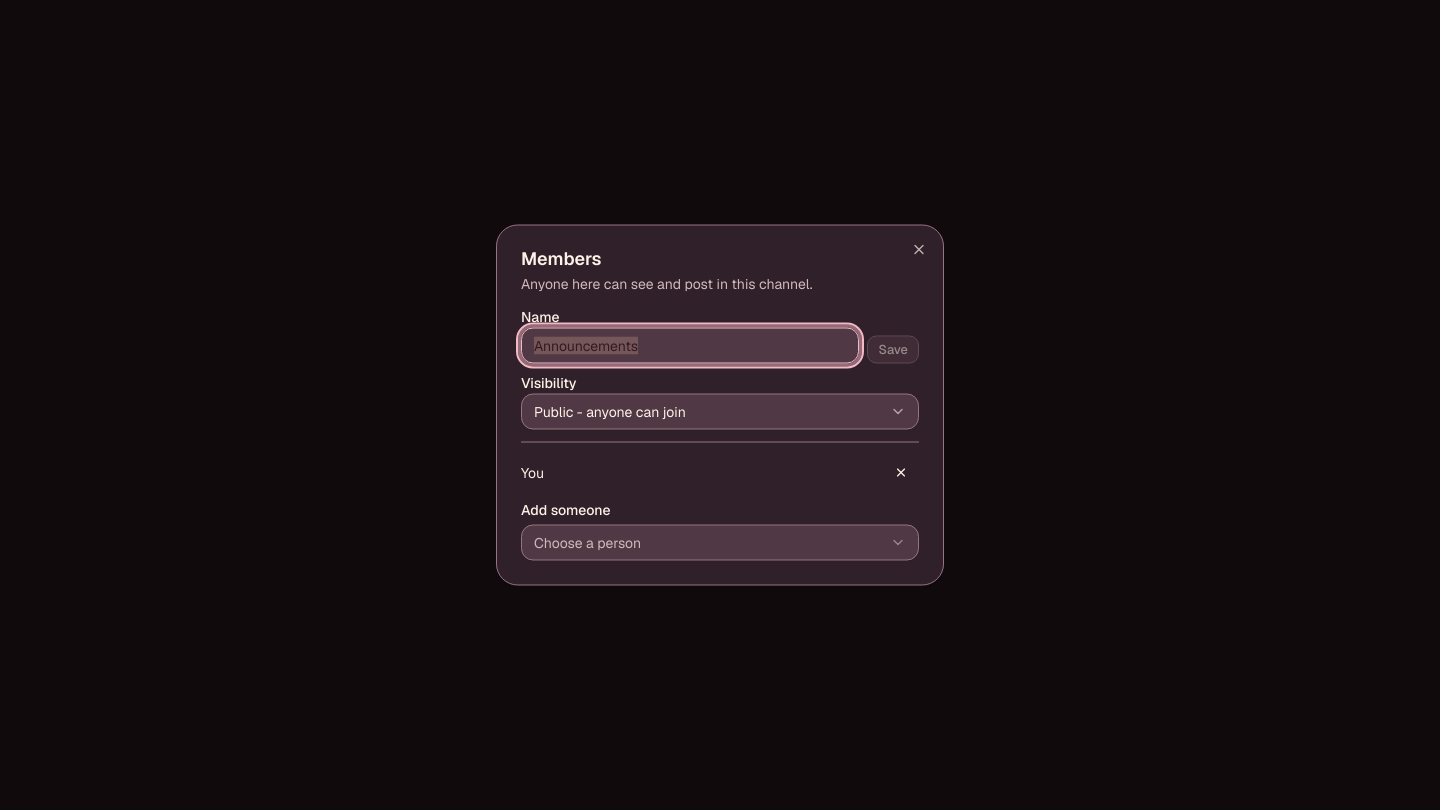
Test: ConversationMembersDialog › lists current members and offers only non-members to add
Expected: the text "You" is shown, [521,462,544,482]
Click the dropdown named "Add someone".
click(588, 542)  # box [521,524,919,560]
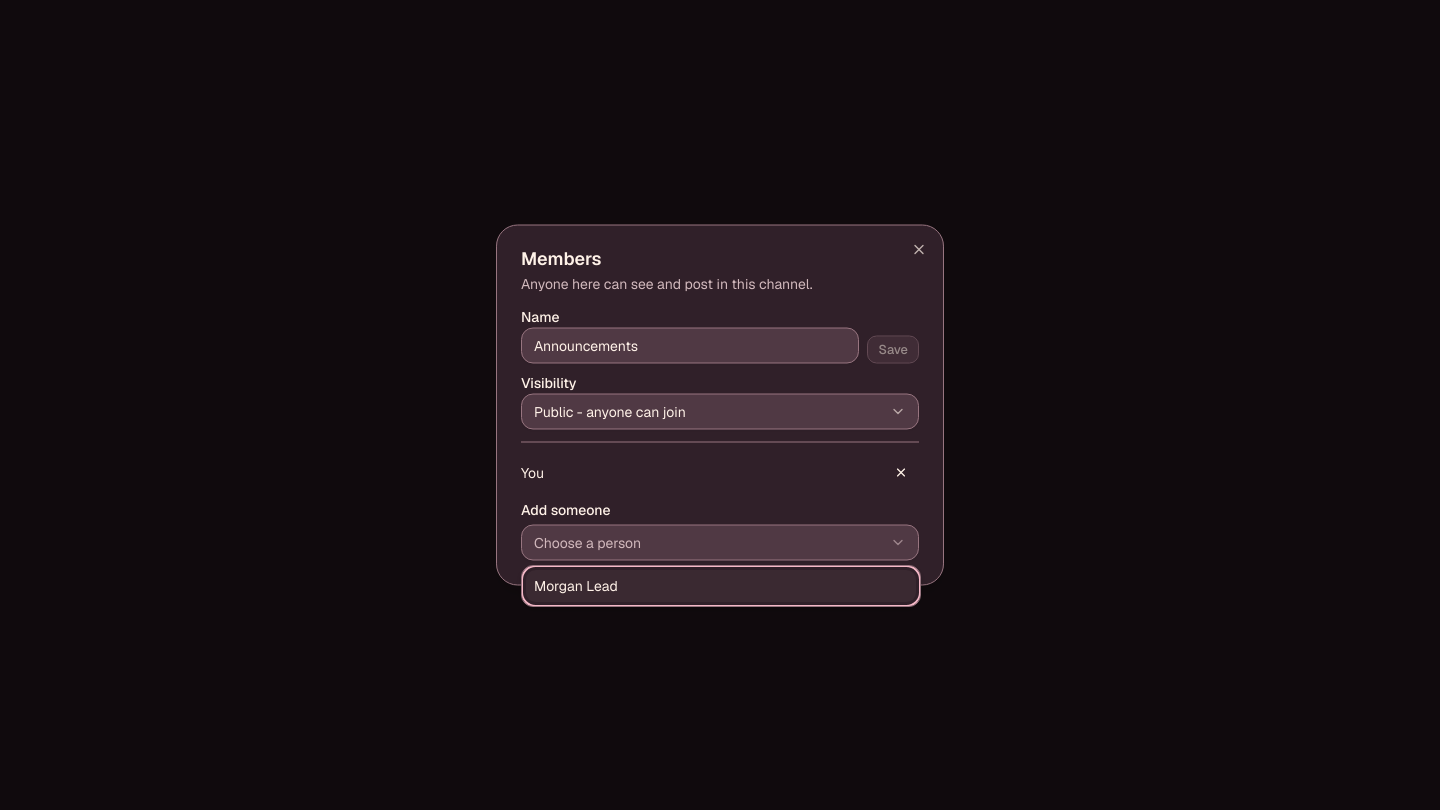
Expected: the option "Morgan Lead" is shown, [526,570,916,602]
